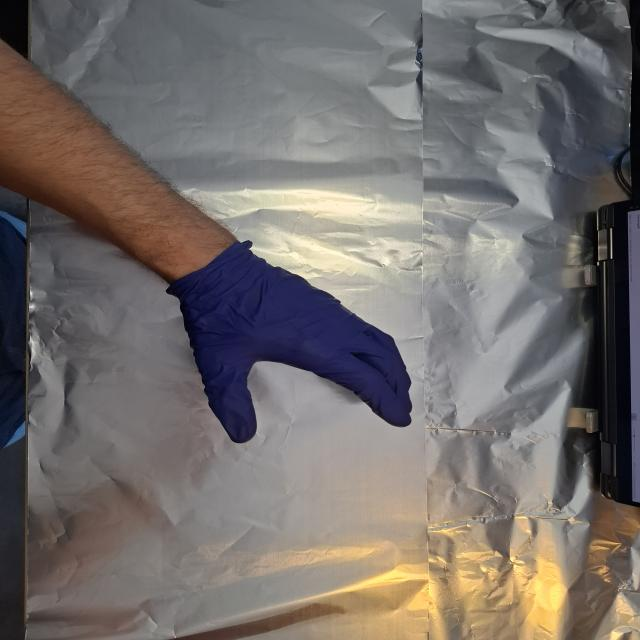glove_on: (176, 243, 418, 445)
